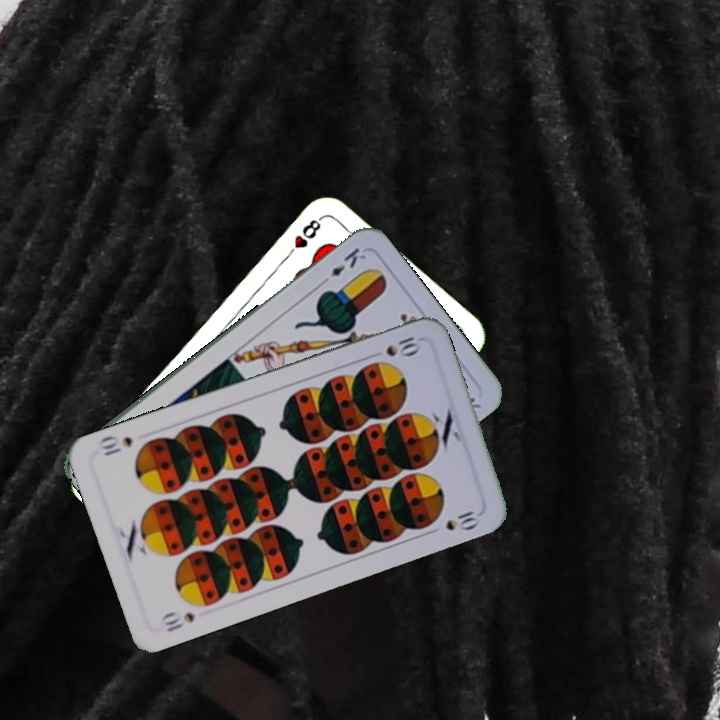EK: (315, 243, 369, 289)
H8: (281, 212, 325, 262)
S10: (366, 332, 423, 361), (157, 608, 198, 635)
